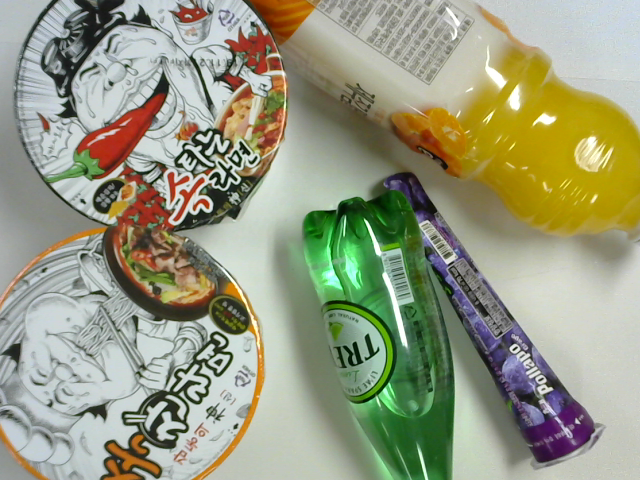HeJangsock: (16, 1, 287, 225)
Hejangchan: (1, 227, 264, 478)
Jeju_Tangerine_1.5L: (245, 1, 637, 245)
Polapo_Grape: (379, 175, 596, 477)
Treviraim_500ml: (303, 193, 460, 480)
